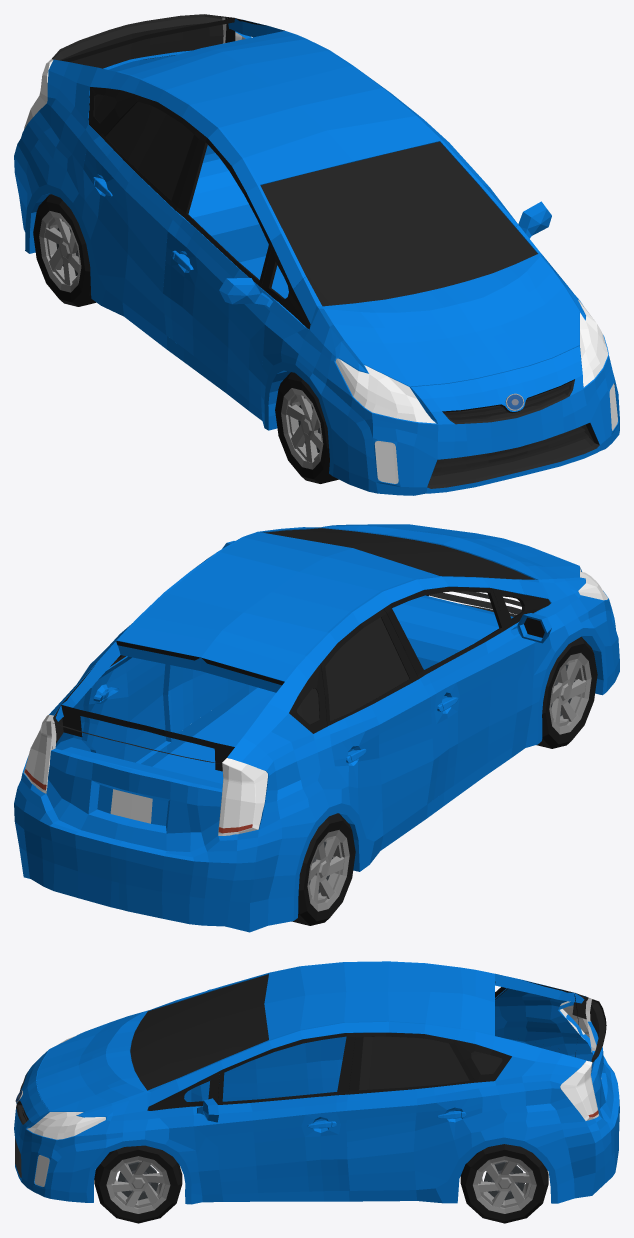
The model's file is toyota-prius-rig.glb.
3 views of the same model, one above another, from view 1: azimuth 30°, elevation 25°; view 2: azimuth 150°, elevation 25°; view 3: azimuth 270°, elevation 25° (orthographic). The views are drawn at different scales.
Parts seen in each view (by area): view 1: m2; view 2: m2; view 3: m2.
Part boxes in pixels (box(x1,y1,x2,y2)): m2: box(14, 14, 619, 495); m2: box(14, 524, 619, 932); m2: box(14, 961, 619, 1223).
Bounding box in the file's own units: 2.12 × 1.5 × 4.47.
3 materials, 1 textured.
